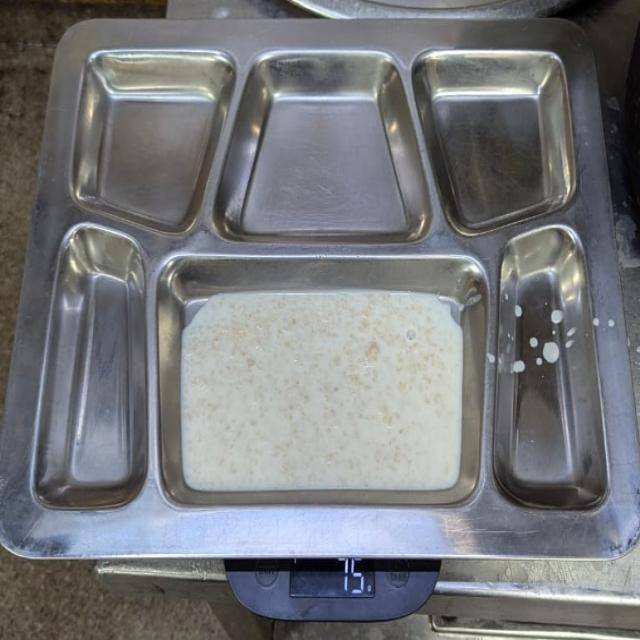Porridge: (176, 283, 469, 492)
